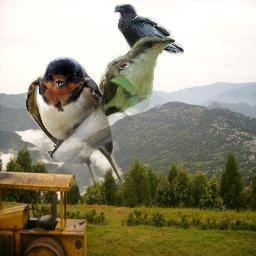Crow: (113, 4, 184, 68)
Cuckoo: (92, 36, 175, 120)
Swallow: (26, 57, 123, 185)
